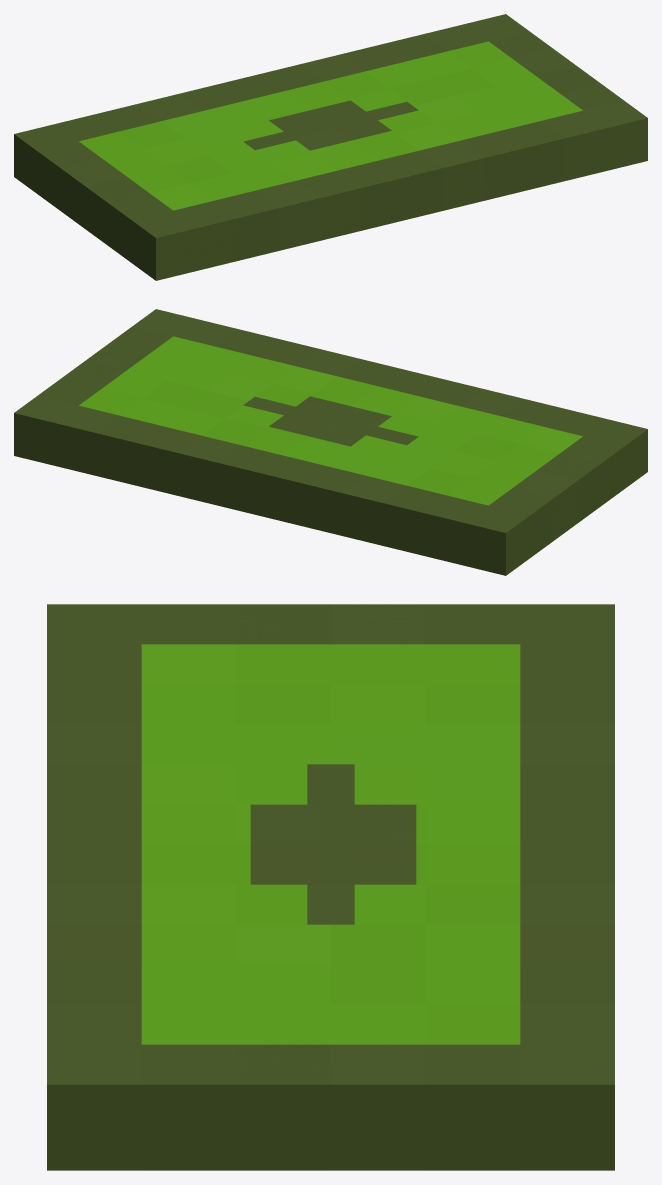
File: Money.obj
3 views of the same model, one above another, from view 1: azimuth 30°, elevation 25°; view 2: azimuth 150°, elevation 25°; view 3: azimuth 270°, elevation 25° (orthographic). The views are drawn at different scales.
Visible parts, largest first — view 1: Dollar, SouthSide, NorthTop, SouthTop, WestSide, WestTop, EastTop, MiddleTop, BarTop; view 2: Dollar, NorthSide, SouthTop, NorthTop, WestSide, WestTop, EastTop, MiddleTop, BarTop; view 3: Dollar, EastSide, NorthTop, SouthTop, WestTop, EastTop, MiddleTop, BarTop.
Boxes of the visible parts, x1,y1,x2,y2 form: Dollar: (79,41,582,210); SouthSide: (156,118,647,280); NorthTop: (14,14,528,151); SouthTop: (133,100,647,237); WestSide: (14,134,155,280); WestTop: (38,141,172,220); EastTop: (489,31,623,110); MiddleTop: (269,100,391,150); BarTop: (243,101,418,150); Dollar: (79,336,582,505); NorthSide: (14,413,505,575); SouthTop: (133,309,647,446); NorthTop: (14,395,528,532); WestSide: (506,429,647,575); WestTop: (489,436,623,515); EastTop: (38,326,172,405); MiddleTop: (269,396,391,446); BarTop: (243,396,418,445); Dollar: (141,644,520,1044); EastSide: (47,1084,614,1170); NorthTop: (520,604,614,1084); SouthTop: (47,604,141,1084); WestTop: (141,604,520,644); EastTop: (141,1044,520,1084); MiddleTop: (250,804,416,884); BarTop: (307,764,354,924).
Size of the model in its own units: 12 by 1 by 6.
2 materials, 2 textured.
